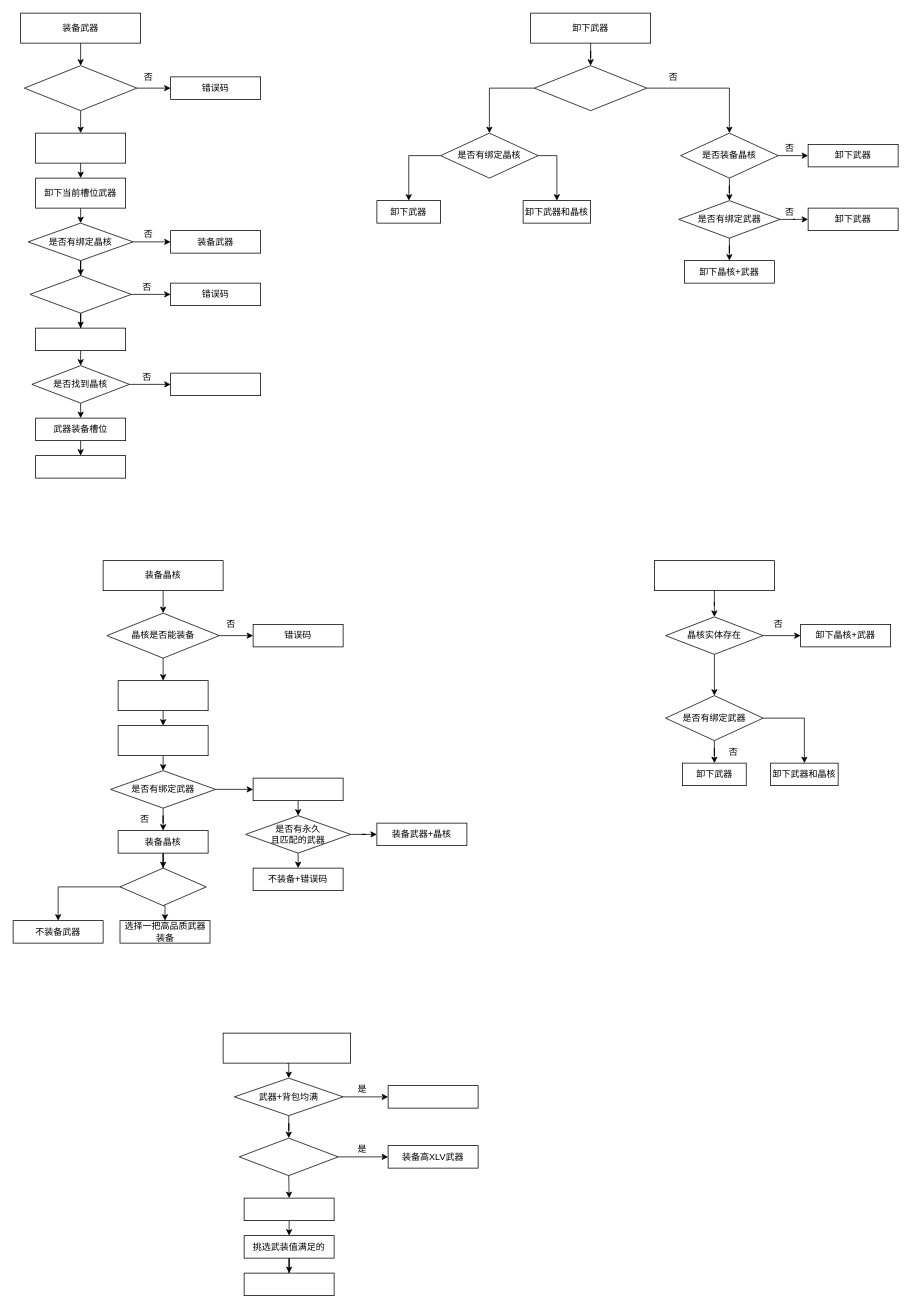
Image size: 911x1309. Some labels were removed from this diagram. Each missing label, with the centre of its shape:
"卸下对应槽位武器" belongs at (297,789).
"卸下当前槽位晶核" belongs at (162,740).
"卸下晶核" belongs at (714,575).
"卸下晶核原装备槽位" belongs at (162,695).
"卸下武器原装备槽位" belongs at (80,147).
"无法装备，错误码" belongs at (215,384).
"晶核已装" belongs at (288,1156).
"晶核装备" belongs at (80,466).
"武器找到实体" belongs at (590,88).
"武器是否是永久" belongs at (80,294).
"武器是否能装备" belongs at (80,88).
"武器槽是否装备" belongs at (162,886).
"筛选可装备的晶核" belongs at (288,1209).
"装备" belongs at (288,1284).
"该位置晶核卸下" belongs at (80,339).
"跳过" belongs at (432,1096).
"遍历格子" belongs at (286,1047).
